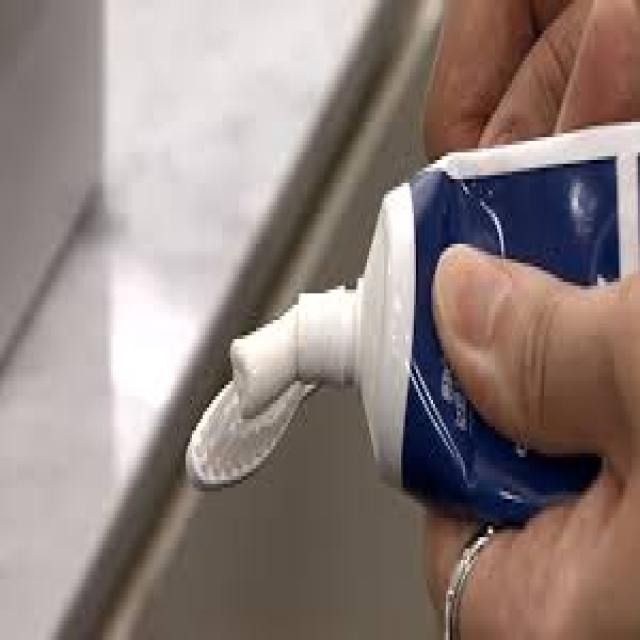toothpaste: (288, 134, 640, 511)
